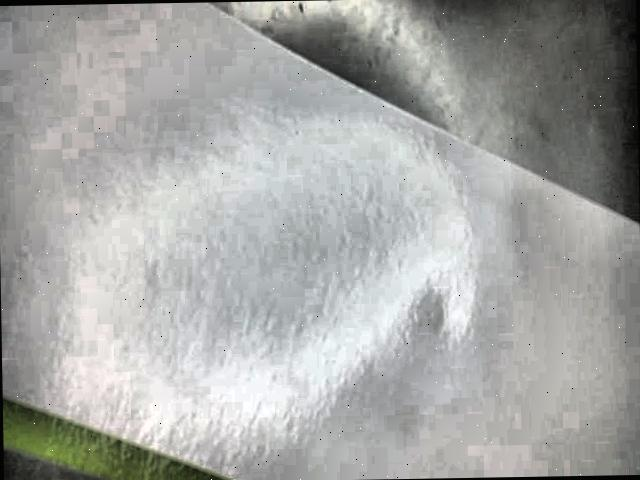Paper: (0, 2, 640, 480)
